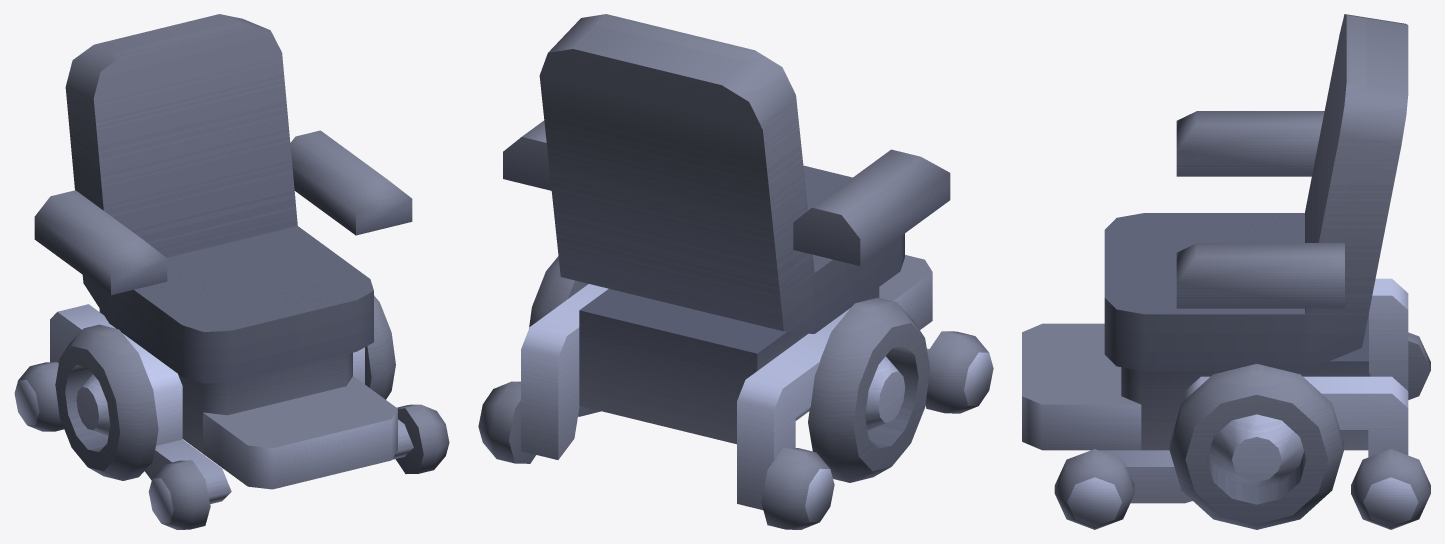
Rendered from wheelchair-power.glb.
The picture shows the model from 3 angles, left to right: view 1: azimuth 30°, elevation 25°; view 2: azimuth 150°, elevation 25°; view 3: azimuth 270°, elevation 25°; orthographic projection. The views are drawn at different scales.
Visible parts, largest first — view 1: wheelchair-power; view 2: wheelchair-power; view 3: wheelchair-power.
Boxes of the visible parts, left/top/right/bottom form: wheelchair-power: left=14, top=14, right=449, bottom=529; wheelchair-power: left=478, top=14, right=993, bottom=529; wheelchair-power: left=1022, top=14, right=1430, bottom=529.
Bounding box in the file's own units: 0.48 × 0.5717 × 0.5109.
1 material, 1 textured.
